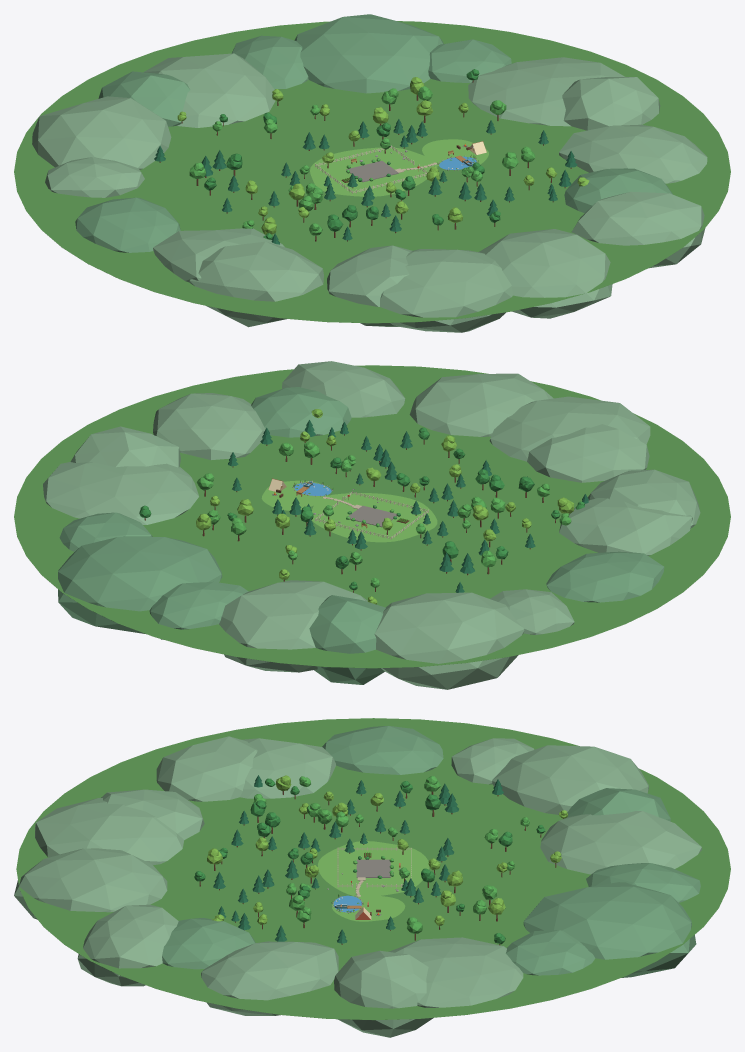
Rendered from outdoor.glb.
3 views of the same model, one above another, from view 1: azimuth 30°, elevation 25°; view 2: azimuth 150°, elevation 25°; view 3: azimuth 270°, elevation 25° (orthographic).
Parts seen in each view (by area): view 1: OUT_grass_far, OUT_hill_b, OUT_hill_a, OUT_grass_yard, OUT_pine, OUT_leaf_c, OUT_leaf_b, OUT_leaf_a, OUT_trunk, OUT_foundation, OUT_fence; view 2: OUT_grass_far, OUT_hill_b, OUT_hill_a, OUT_grass_yard, OUT_pine, OUT_leaf_c, OUT_leaf_b, OUT_leaf_a, OUT_trunk, OUT_foundation, OUT_fence; view 3: OUT_grass_far, OUT_hill_b, OUT_hill_a, OUT_grass_yard, OUT_pine, OUT_leaf_c, OUT_leaf_b, OUT_leaf_a, OUT_foundation, OUT_trunk.
Part boxes in pixels (x1,y1,x2,y2): OUT_grass_far: (14,21,730,323); OUT_hill_b: (32,53,707,332); OUT_hill_a: (75,14,672,252); OUT_grass_yard: (310,139,488,196); OUT_pine: (154,119,577,244); OUT_leaf_c: (177,77,589,234); OUT_leaf_b: (189,86,535,235); OUT_leaf_a: (204,69,500,239); OUT_trunk: (159,80,571,241); OUT_foundation: (346,160,398,182); OUT_fence: (315,145,427,193); OUT_grass_far: (14,365,730,668); OUT_hill_b: (43,361,700,689); OUT_hill_a: (58,387,664,684); OUT_grass_yard: (261,480,437,542); OUT_pine: (228,420,588,592); OUT_leaf_c: (196,409,574,604); OUT_leaf_b: (197,441,571,587); OUT_leaf_a: (139,427,584,590); OUT_trunk: (144,434,555,592); OUT_foundation: (348,505,396,527); OUT_fence: (315,491,428,539); OUT_grass_far: (16,718,730,1020); OUT_hill_b: (14,736,702,1037); OUT_hill_a: (162,725,700,977); OUT_grass_yard: (318,841,429,921); OUT_pine: (213,775,503,943); OUT_leaf_c: (207,775,567,925); OUT_leaf_b: (253,776,529,933); OUT_leaf_a: (194,778,545,944); OUT_foundation: (356,859,390,877); OUT_trunk: (199,791,563,945).
Bounding box in the file's own units: 180 × 21.14 × 181.
